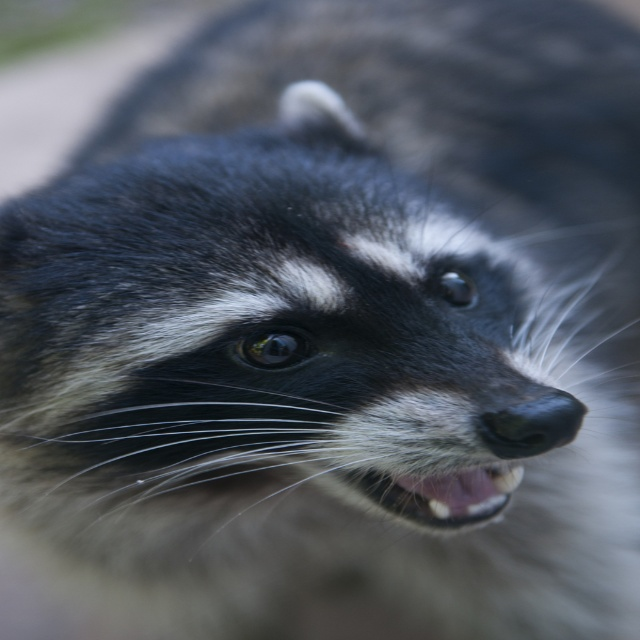Raccoon: (1, 0, 640, 640)
